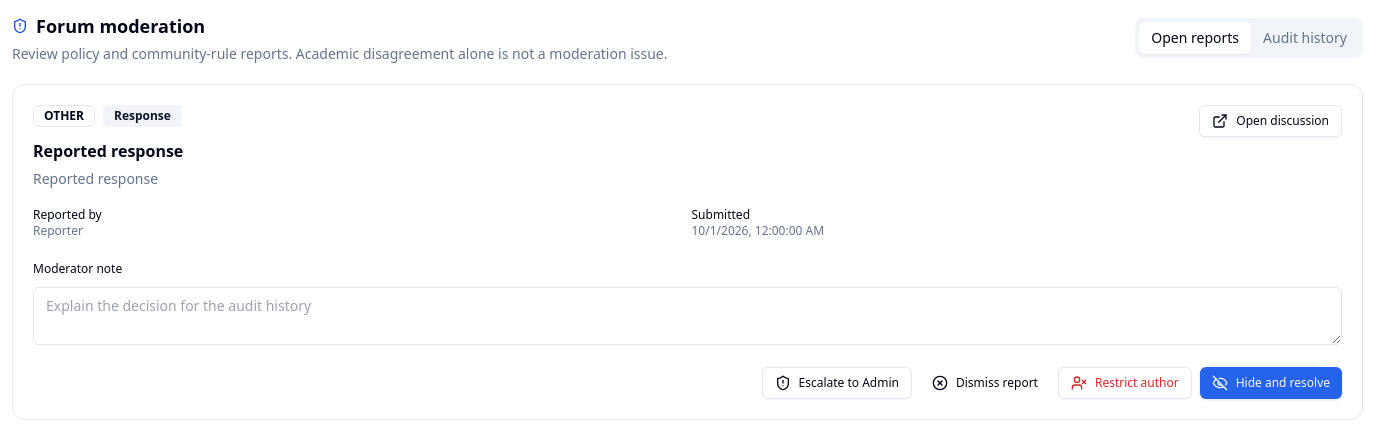
Scenario: moderation history › shows a system action as System with its own label, and a human action by name
The width and height of the screenshot is (1378, 437).
Click the button "Audit history".
click(1305, 38)  # box [1251,22,1359,54]
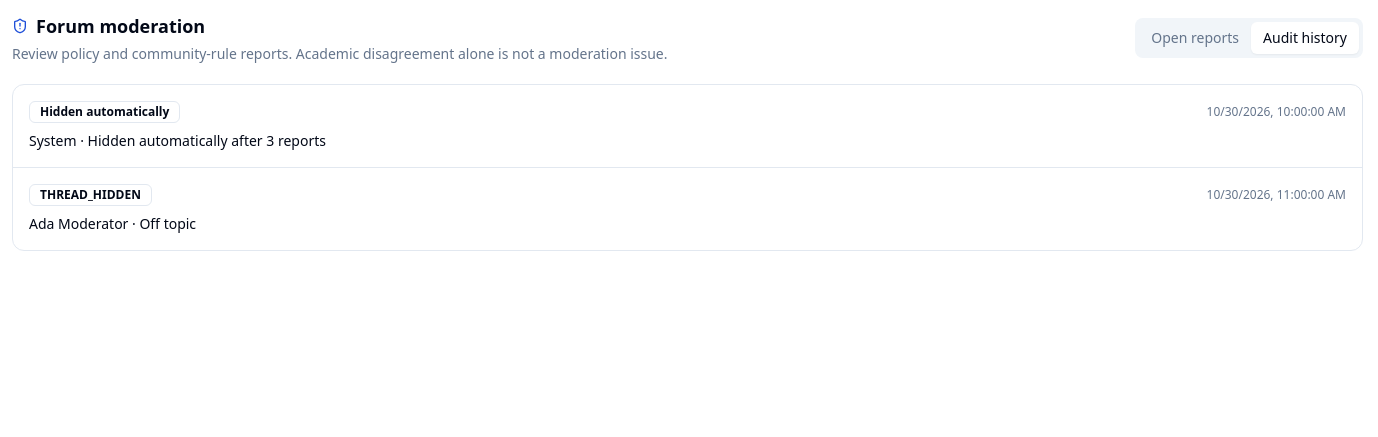
Result: the text "Hidden automatically" is shown at [29,101,180,123]
Result: the text "System" is shown at [29,131,77,150]
Result: the text "Ada Moderator" is shown at [29,214,128,233]
